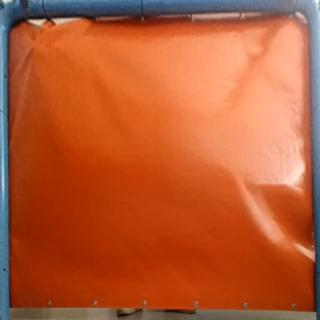Hit-hRxx: (22, 40, 42, 55)
